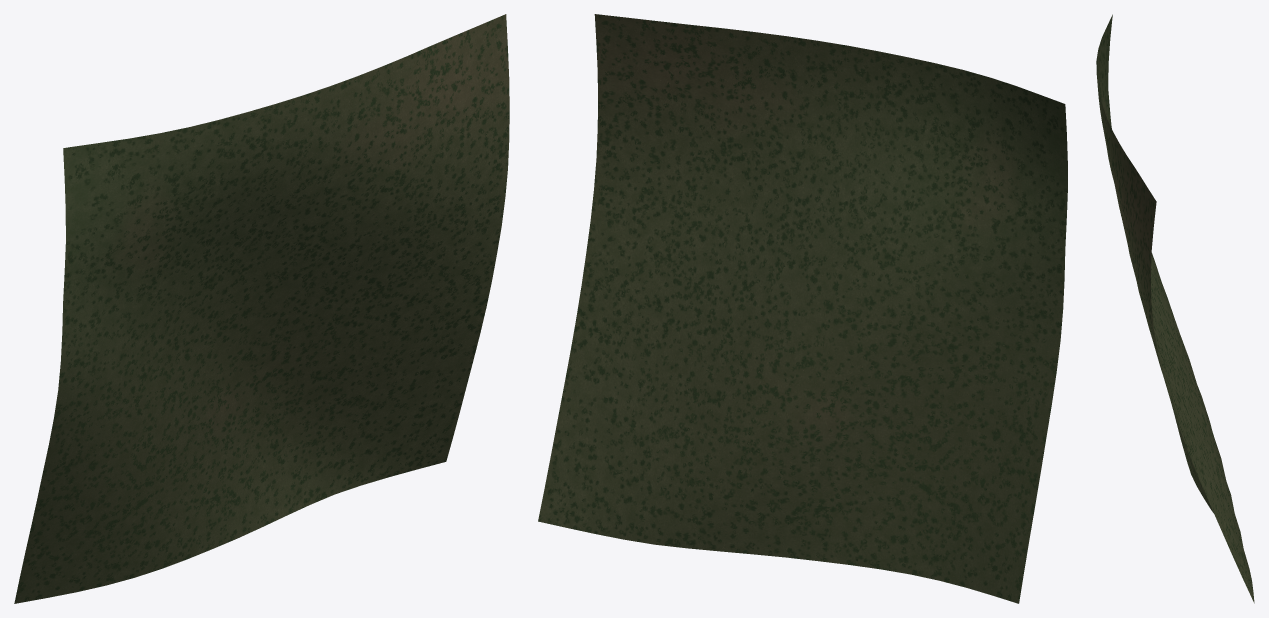
Rendered from terrain_mid_01_03.obj.
3 views of the same model, side by side, from view 1: azimuth 30°, elevation 25°; view 2: azimuth 150°, elevation 25°; view 3: azimuth 270°, elevation 25° (orthographic). The views are drawn at different scales.
Parts seen in each view (by area): view 1: terrain_mid_01_03; view 2: terrain_mid_01_03; view 3: terrain_mid_01_03.
Boxes of the visible parts, <box> form: terrain_mid_01_03: <box>14,14,509,603</box>; terrain_mid_01_03: <box>538,14,1067,603</box>; terrain_mid_01_03: <box>1096,14,1254,603</box>.
Size of the model in its own units: 320 by 320 by 114.
1 material, 1 textured.
